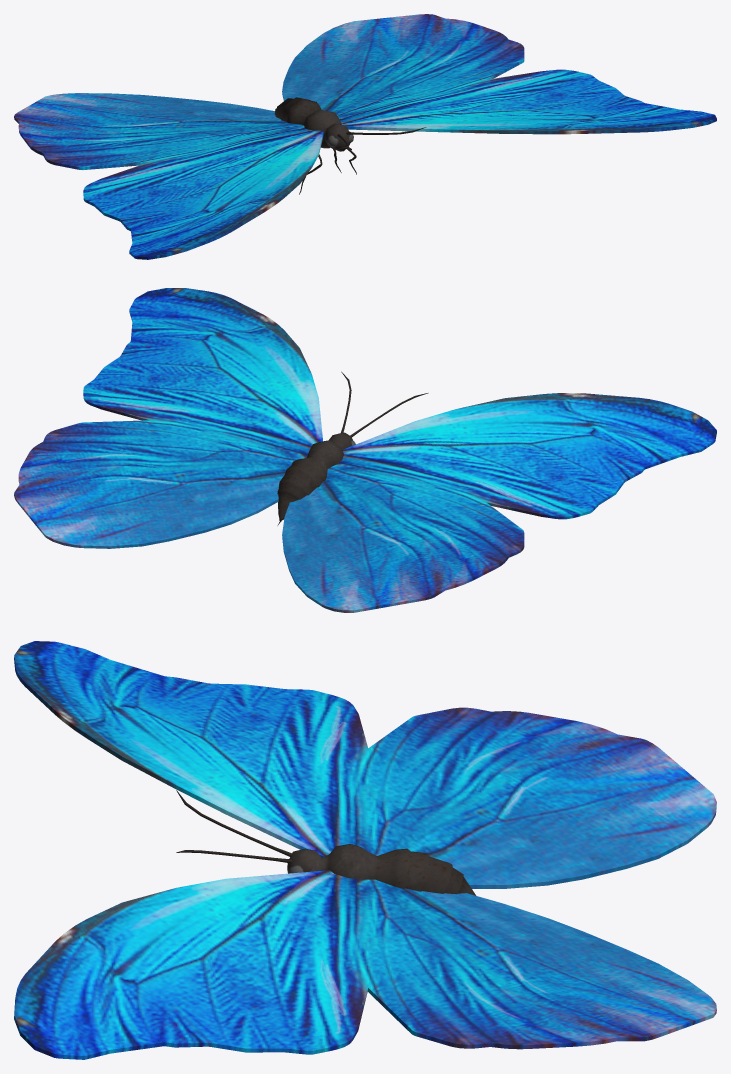
The model's file is babochka.glb.
The picture shows the model from 3 angles, top to bottom: view 1: azimuth 30°, elevation 25°; view 2: azimuth 150°, elevation 25°; view 3: azimuth 270°, elevation 25°; orthographic projection. The views are drawn at different scales.
Parts seen in each view (by area): view 1: wing_02_lambert1_0, wing_02_lambert1_0.001, Butterfly_tri_torso_leg_01_lambert1_0; view 2: wing_02_lambert1_0, wing_02_lambert1_0.001, Butterfly_tri_torso_leg_01_lambert1_0; view 3: wing_02_lambert1_0.001, wing_02_lambert1_0, Butterfly_tri_torso_leg_01_lambert1_0.
Part boxes in pixels (x1,y1,x2,y2): wing_02_lambert1_0: (14, 93, 323, 259); wing_02_lambert1_0.001: (282, 14, 716, 134); Butterfly_tri_torso_leg_01_lambert1_0: (274, 97, 426, 194); wing_02_lambert1_0: (282, 393, 716, 612); wing_02_lambert1_0.001: (14, 288, 322, 548); Butterfly_tri_torso_leg_01_lambert1_0: (277, 371, 428, 525); wing_02_lambert1_0.001: (14, 870, 716, 1059); wing_02_lambert1_0: (14, 641, 716, 888); Butterfly_tri_torso_leg_01_lambert1_0: (176, 790, 476, 895).
Bounding box in the file's own units: 4.97 × 0.8089 × 3.58.
1 material, 1 textured.
